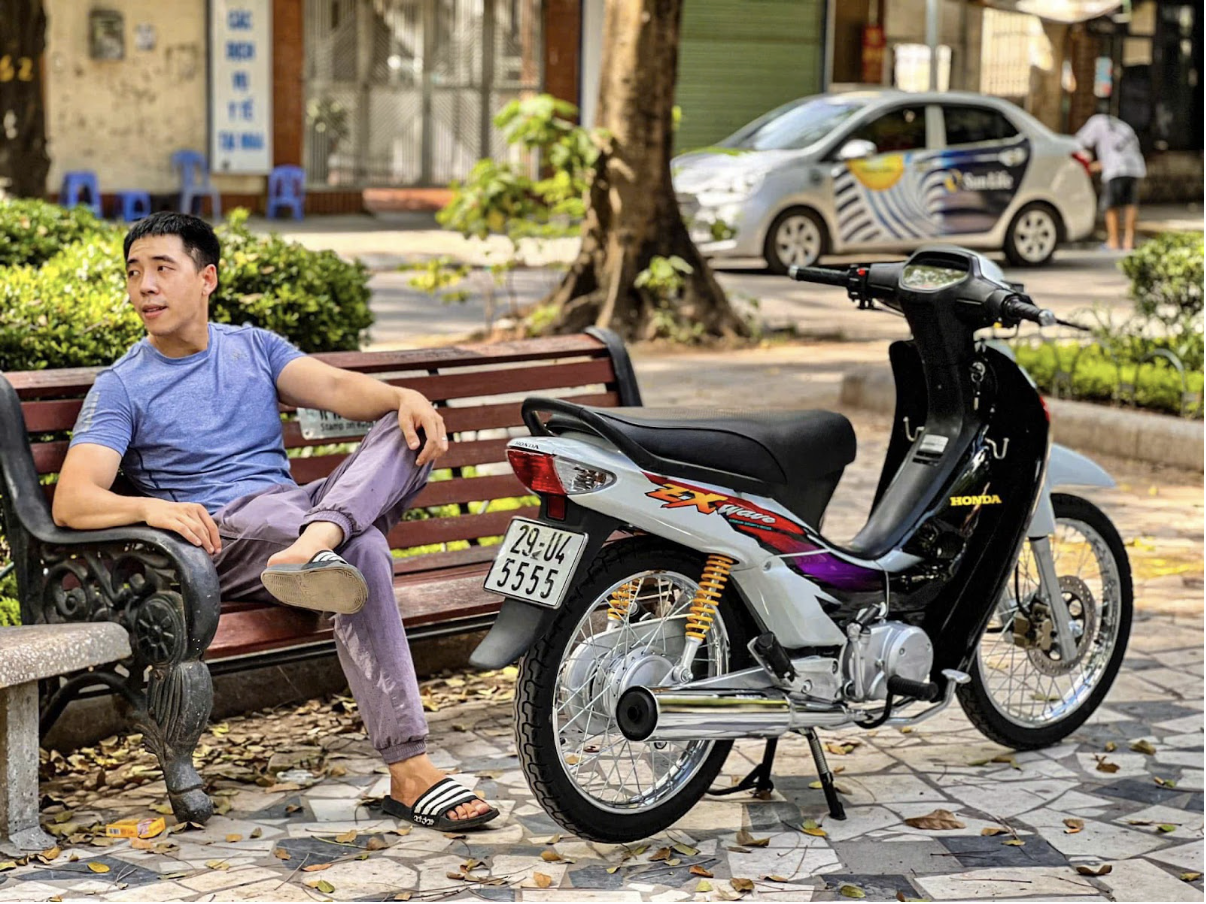bien_so: (478, 513, 591, 613)
